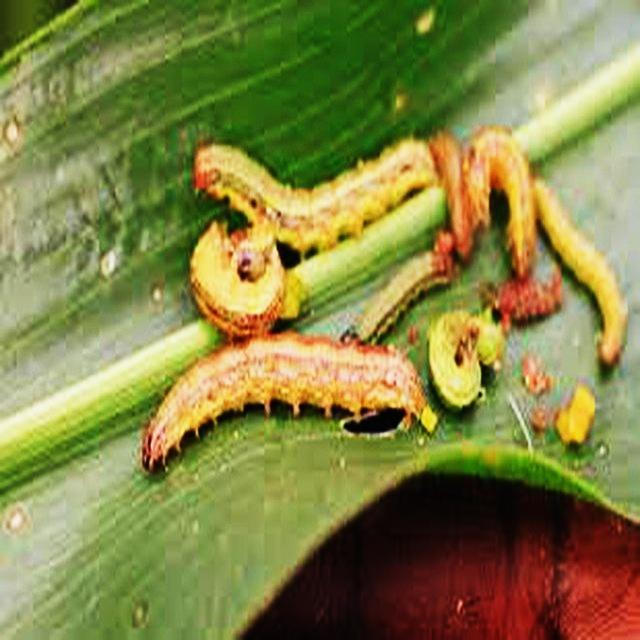worm: (139, 123, 629, 475), (140, 327, 439, 475)
